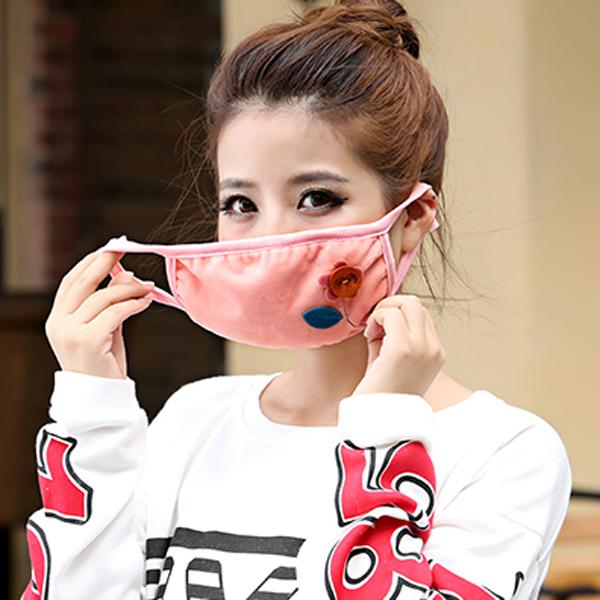WRONG: (204, 147, 381, 334)
